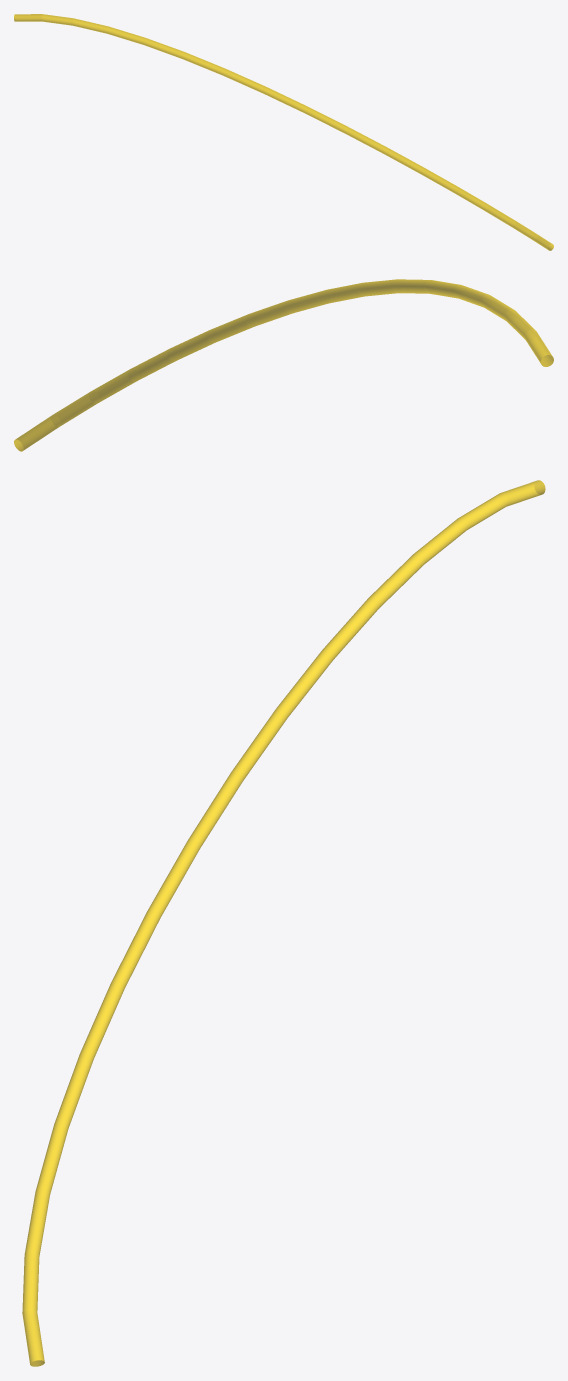
File: Event_40932208_track_47.fbx
3 renders of one model, top to bottom at view 1: azimuth 30°, elevation 25°; view 2: azimuth 150°, elevation 25°; view 3: azimuth 270°, elevation 25°, orthographic. The views are drawn at different scales.
Parts seen in each view (by area): view 1: Model; view 2: Model; view 3: Model.
Part boxes in pixels (x1,y1,x2,y2): Model: (14,14,553,250); Model: (14,279,553,451); Model: (22,480,545,1366).
Bounding box in the file's own units: 2.55 × 1.45 × 1.39.
